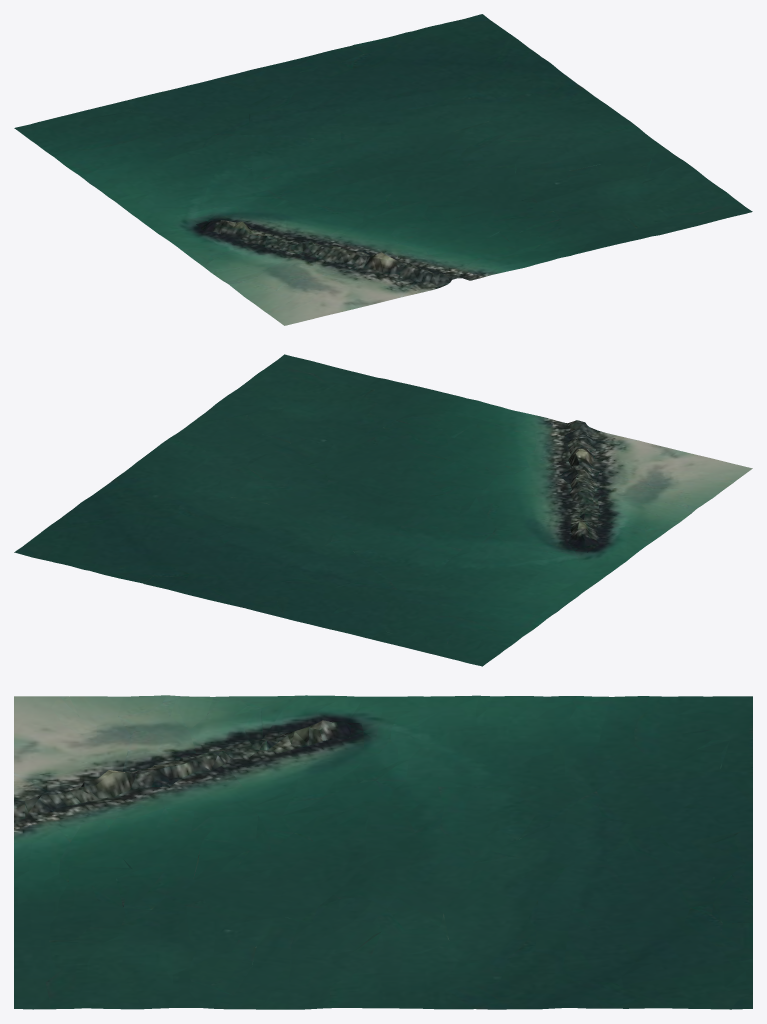
The picture shows the model from 3 angles, top to bottom: view 1: azimuth 30°, elevation 25°; view 2: azimuth 150°, elevation 25°; view 3: azimuth 270°, elevation 25°; orthographic projection. The views are drawn at different scales.
Size of the model in its own units: 209 by 5.33 by 209.
Materials: 2 (2 with a texture image).
